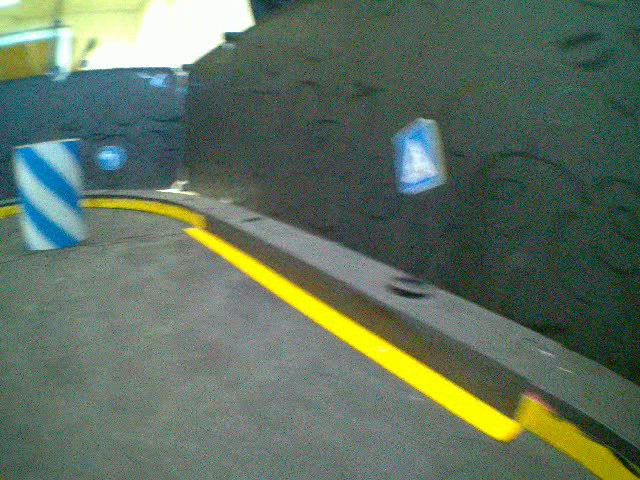bucket: (11, 135, 91, 254)
